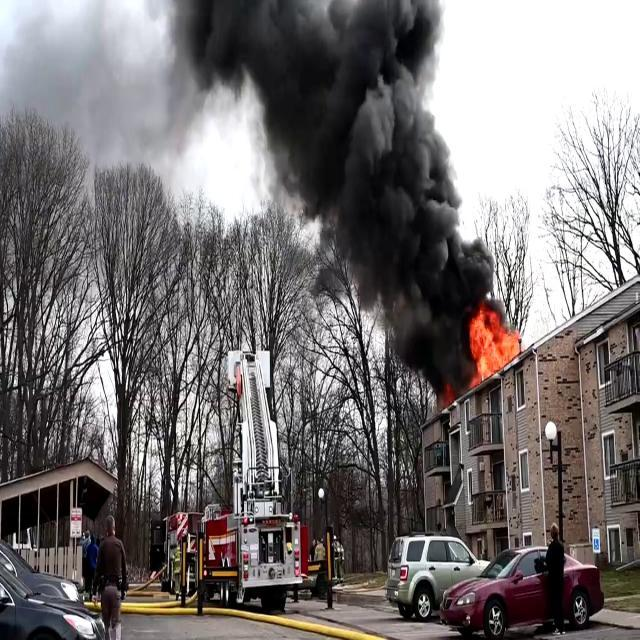Fire: (467, 302, 521, 382)
Smoke: (198, 0, 492, 364)
